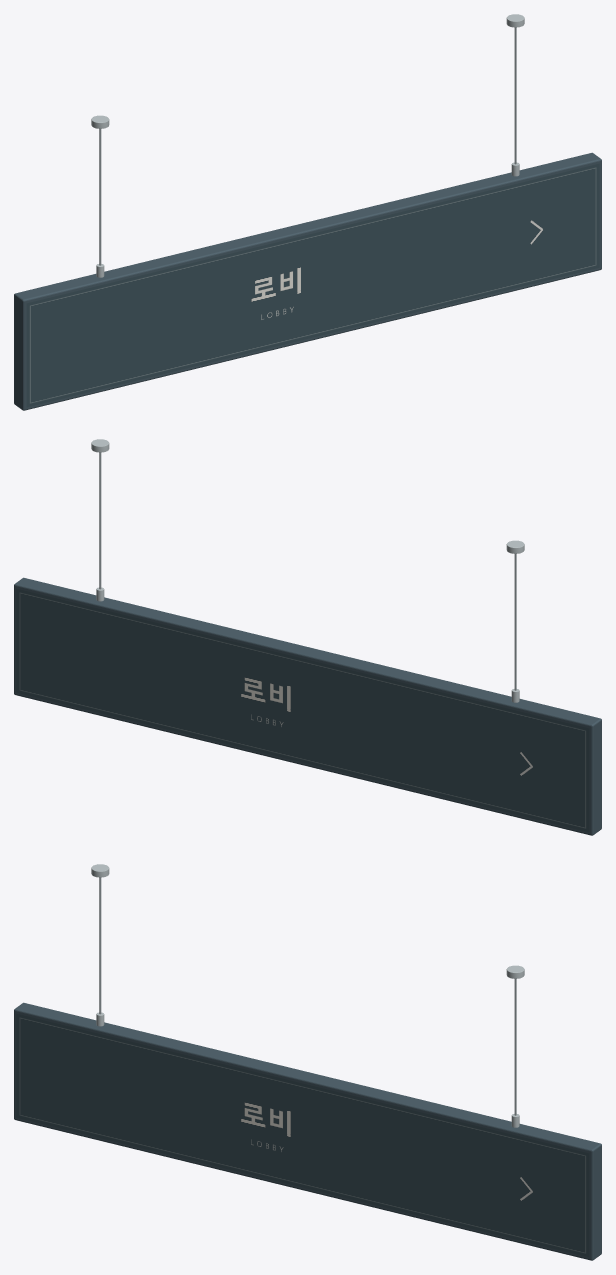
File: Direction_Lobby.fbx
The picture shows the model from 3 angles, top to bottom: view 1: azimuth 30°, elevation 25°; view 2: azimuth 150°, elevation 25°; view 3: azimuth 330°, elevation 25°; orthographic projection.
Parts seen in each view (by area): view 1: Direction_Lobby; view 2: Direction_Lobby; view 3: Direction_Lobby.
Part boxes in pixels (x1=…): Direction_Lobby: x1=14, y1=14, x2=601, y2=410; Direction_Lobby: x1=14, y1=439, x2=601, y2=835; Direction_Lobby: x1=14, y1=864, x2=601, y2=1260.
Bounding box in the file's own units: 1.2 × 0.532 × 0.037.
4 materials, 1 textured.
